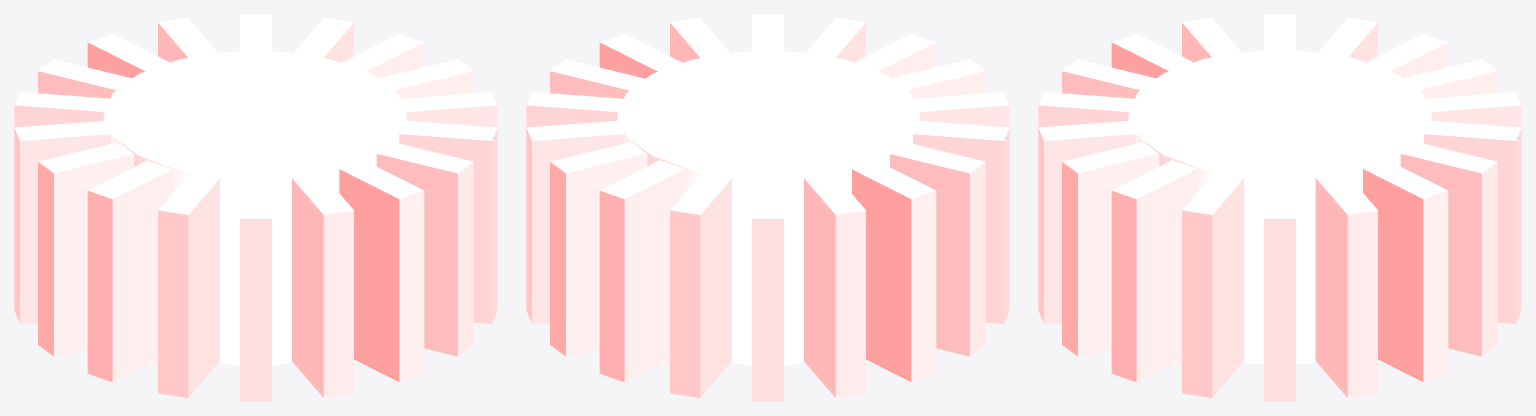
File: smallgear.glb
3 renders of one model, left to right at view 1: azimuth 30°, elevation 25°; view 2: azimuth 150°, elevation 25°; view 3: azimuth 270°, elevation 25°, orthographic.
Parts seen in each view (by area): view 1: Box (×9), Cylinder; view 2: Box (×9), Cylinder; view 3: Box (×9), Cylinder.
Boxes of the visible parts, <box> form: Box (×9): <box>14,14,497,401</box>; Cylinder: <box>103,51,406,364</box>; Box (×9): <box>526,14,1009,401</box>; Cylinder: <box>617,51,920,364</box>; Box (×9): <box>1038,14,1521,401</box>; Cylinder: <box>1128,51,1431,363</box>.
Size of the model in its own units: 2.4 by 1.02 by 2.39.
